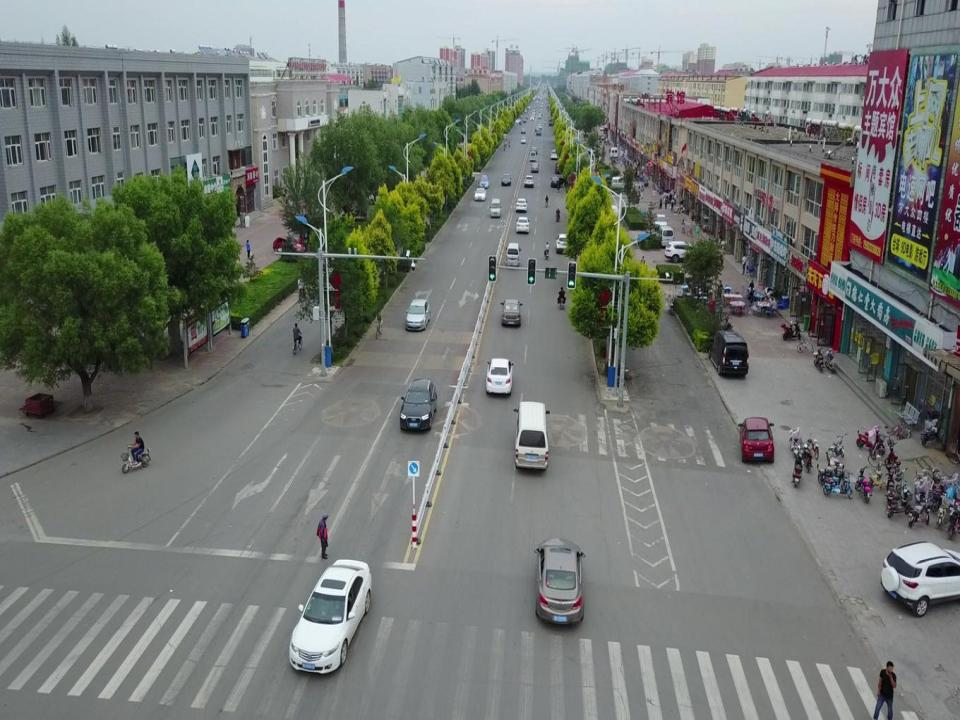car: (288, 558, 376, 675), (880, 534, 960, 616), (532, 536, 584, 628), (398, 376, 439, 433), (734, 417, 776, 462), (483, 359, 513, 395), (664, 239, 704, 263), (404, 298, 430, 330), (499, 298, 522, 328), (363, 187, 395, 208), (272, 236, 304, 255), (453, 137, 482, 150), (514, 216, 531, 232), (514, 196, 529, 212), (550, 174, 565, 189), (522, 174, 535, 190), (474, 185, 486, 202), (554, 160, 566, 174), (501, 172, 511, 188), (530, 161, 539, 173), (550, 148, 558, 160), (531, 145, 538, 154), (520, 136, 527, 144), (535, 128, 542, 136), (519, 127, 526, 133)
van: (512, 402, 550, 469), (708, 332, 750, 376), (504, 242, 522, 267), (658, 225, 675, 246), (653, 214, 668, 231), (489, 198, 501, 218), (478, 174, 489, 191), (528, 151, 536, 160)
